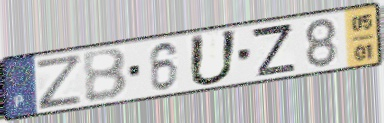6: (148, 41, 181, 92)
8: (302, 16, 341, 70)
B: (80, 46, 130, 104)
U: (186, 28, 241, 89)
Z: (34, 51, 85, 112), (249, 22, 298, 78)
